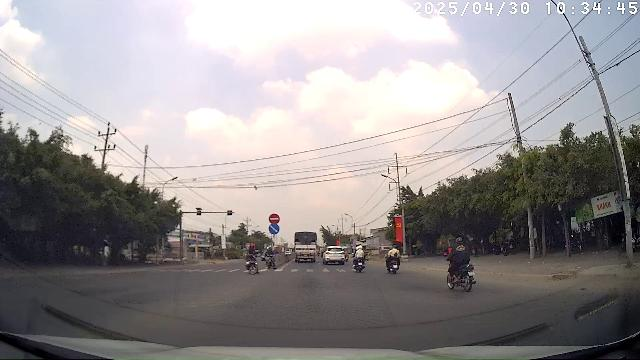102-cam-di-nguoc-chieu: (269, 213, 280, 223)
302a-huong-phai-di-vong-chuong-ngai-vat-1: (269, 223, 280, 234)
